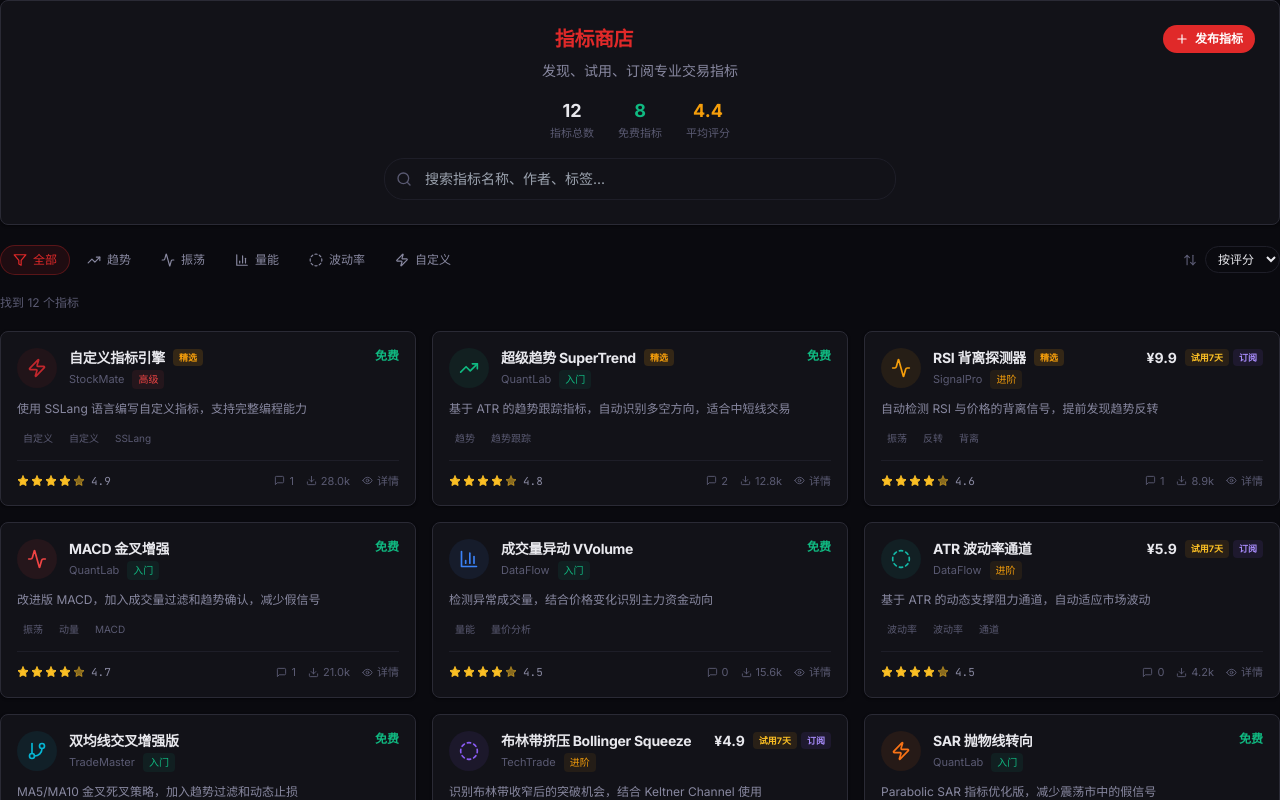
Test: MarketplacePage › filters by category when category button clicked
Click the button "趋势" at (109, 260), box left=74, top=244, right=144, bottom=274
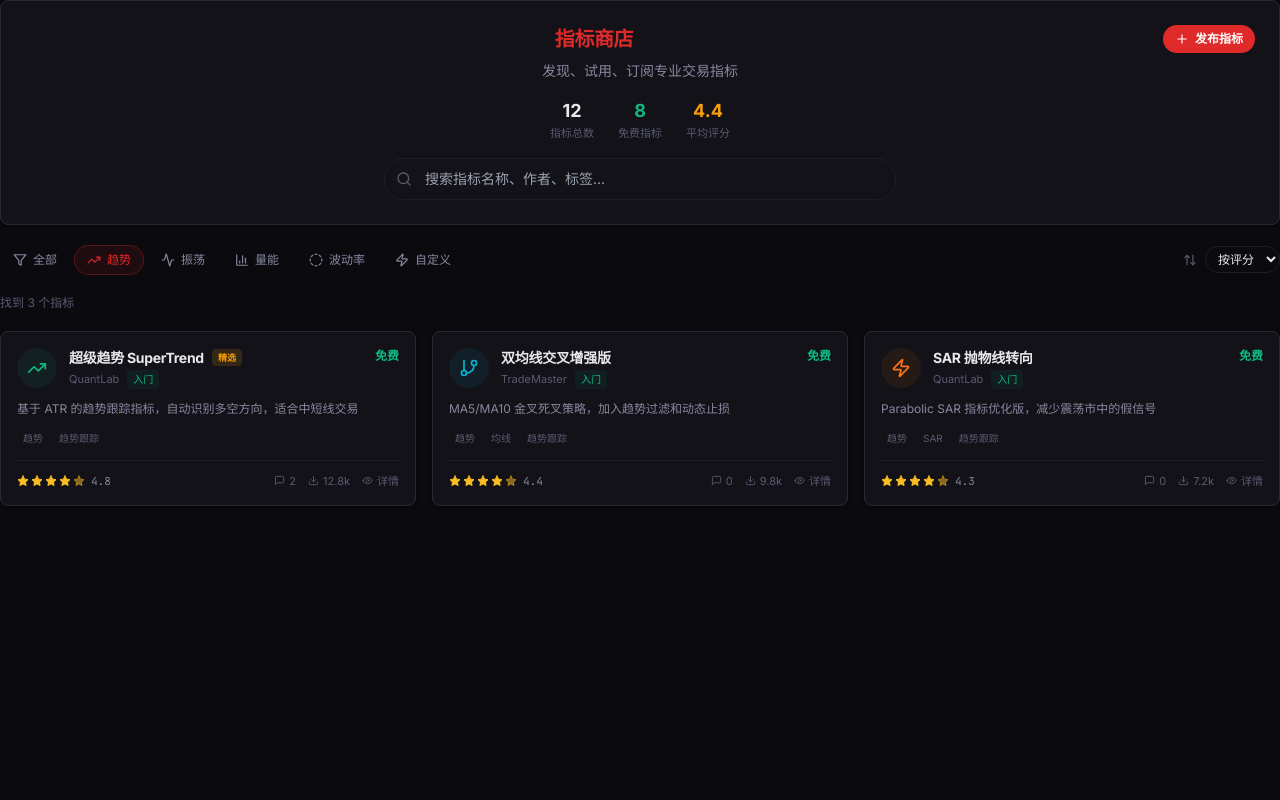
Check: the heading "超级趋势 SuperTrend" is shown, box left=69, top=348, right=204, bottom=368
Check: the heading "RSI 背离探测器" is gone
